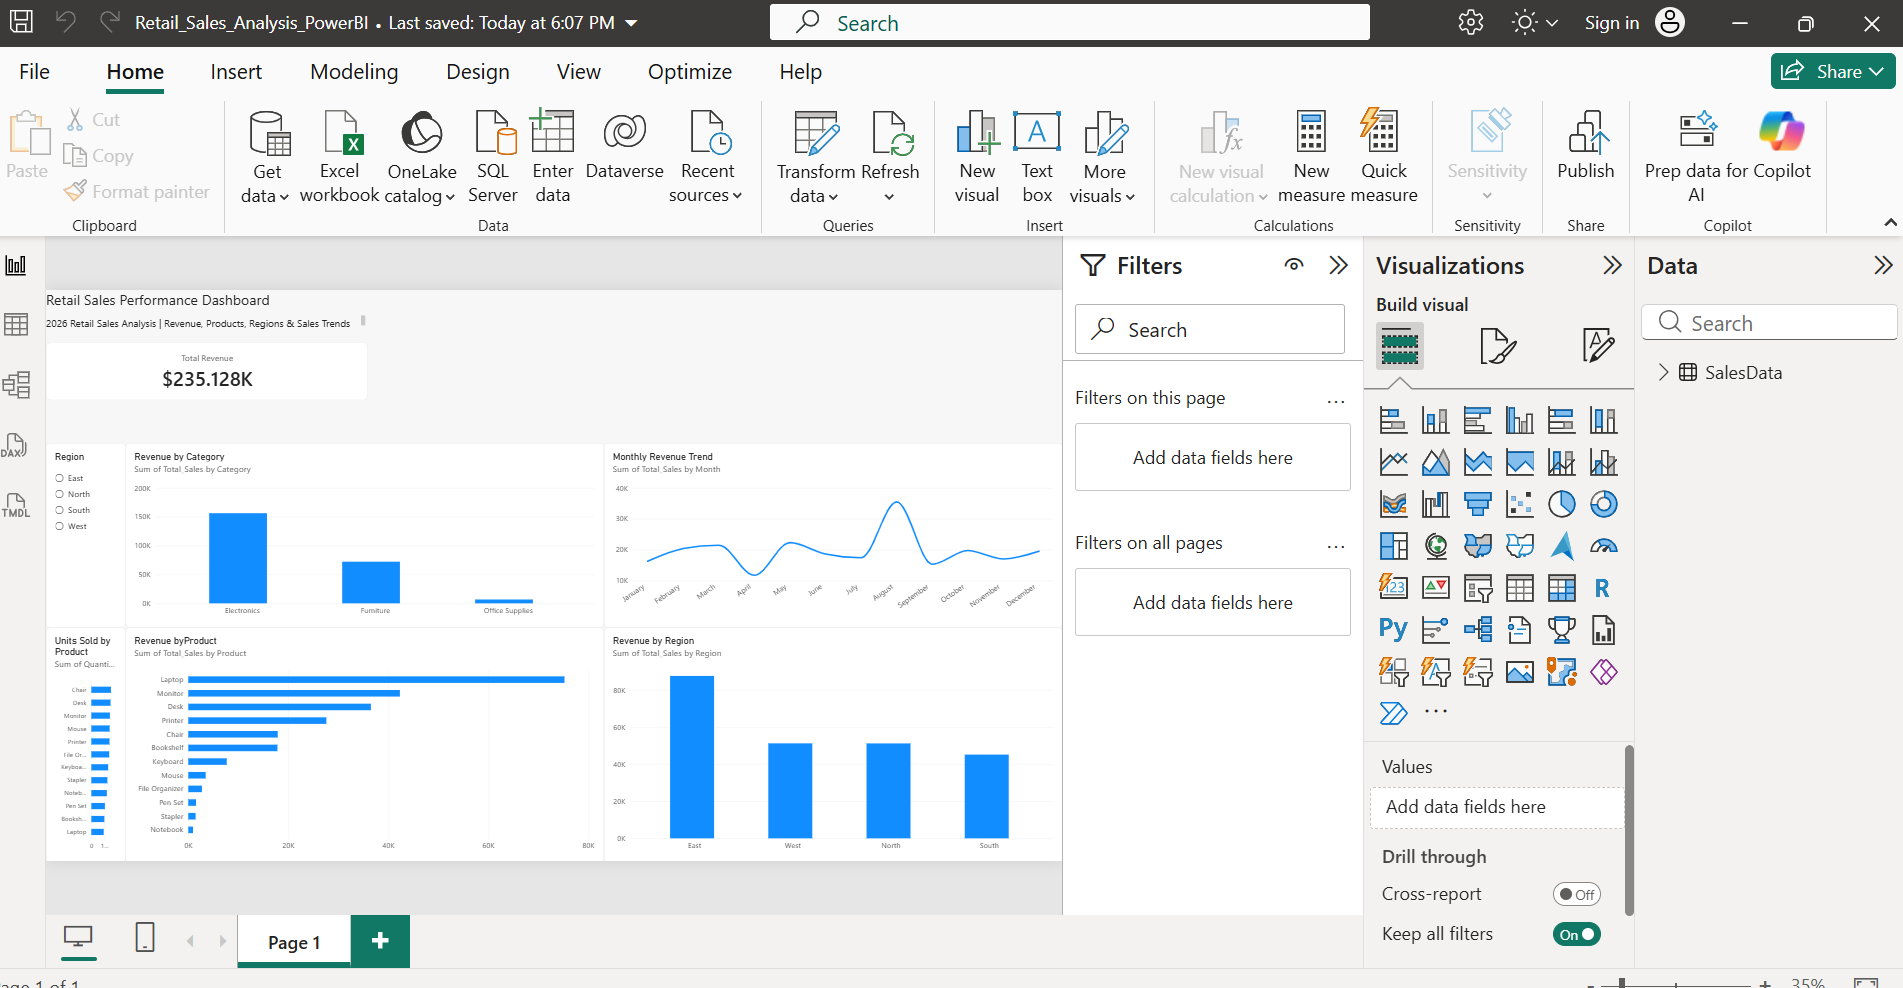

The dashboard page shown, as its layout file describes it:
{"tool":"powerbi","page":{"name":"Page 1","canvas":[1920,1080],"ordinal":0},"visuals":[{"type":"cardVisual","fields":{"Data":["Sum(SalesData.Total_Sales)"]},"box":[0,97.8,608.4,109.8],"z":0},{"type":"clusteredColumnChart","title":"Revenue by Category","fields":{"Category":["SalesData.Category"],"Y":["Sum(SalesData.Total_Sales)"]},"box":[150.3,288.7,904.3,348.3],"z":1000},{"type":"clusteredBarChart","title":"Revenue byProduct","fields":{"Category":["SalesData.Product"],"Y":["Sum(SalesData.Total_Sales)"]},"box":[150.3,637,904.3,443.8],"z":2000},{"type":"clusteredColumnChart","title":"Revenue by Region","fields":{"Category":["SalesData.Region"],"Y":["Sum(SalesData.Total_Sales)"]},"box":[1054.6,637,866.1,443.8],"z":3000},{"type":"lineChart","title":"Monthly Revenue Trend","fields":{"Category":["SalesData.Order_Date.Variation.Date Hierarchy.Month"],"Y":["Sum(SalesData.Total_Sales)"]},"box":[1054.6,288.7,866.1,348.3],"z":4000},{"type":"clusteredBarChart","title":"Units Sold by Product","fields":{"Category":["SalesData.Product"],"Y":["Sum(SalesData.Quantity)"]},"box":[0,637,150.3,443.8],"z":5000},{"type":"textbox","box":[0,0,439,47.7],"z":6000},{"type":"textbox","box":[0,47.7,603.6,28.6],"z":7000},{"type":"listSlicer","fields":{"Values":["SalesData.Region"]},"box":[0,288.7,150.3,348.3],"z":8000}]}

Visuals, with their boxes on the page's 1920x1080 design canvas (x1, y1, x2, y2). These are canvas units, not pixel positions in the 1903x988 screenshot, which may show the page scaled, cropped or inside an application window:
cardVisual - Sum(SalesData.Total_Sales): left=0, top=98, right=608, bottom=208
"Revenue by Category" clusteredColumnChart: left=150, top=289, right=1055, bottom=637
"Revenue byProduct" clusteredBarChart: left=150, top=637, right=1055, bottom=1081
"Revenue by Region" clusteredColumnChart: left=1055, top=637, right=1921, bottom=1081
"Monthly Revenue Trend" lineChart: left=1055, top=289, right=1921, bottom=637
"Units Sold by Product" clusteredBarChart: left=0, top=637, right=150, bottom=1081
textbox: left=0, top=0, right=439, bottom=48
textbox: left=0, top=48, right=604, bottom=76
listSlicer - SalesData.Region: left=0, top=289, right=150, bottom=637
